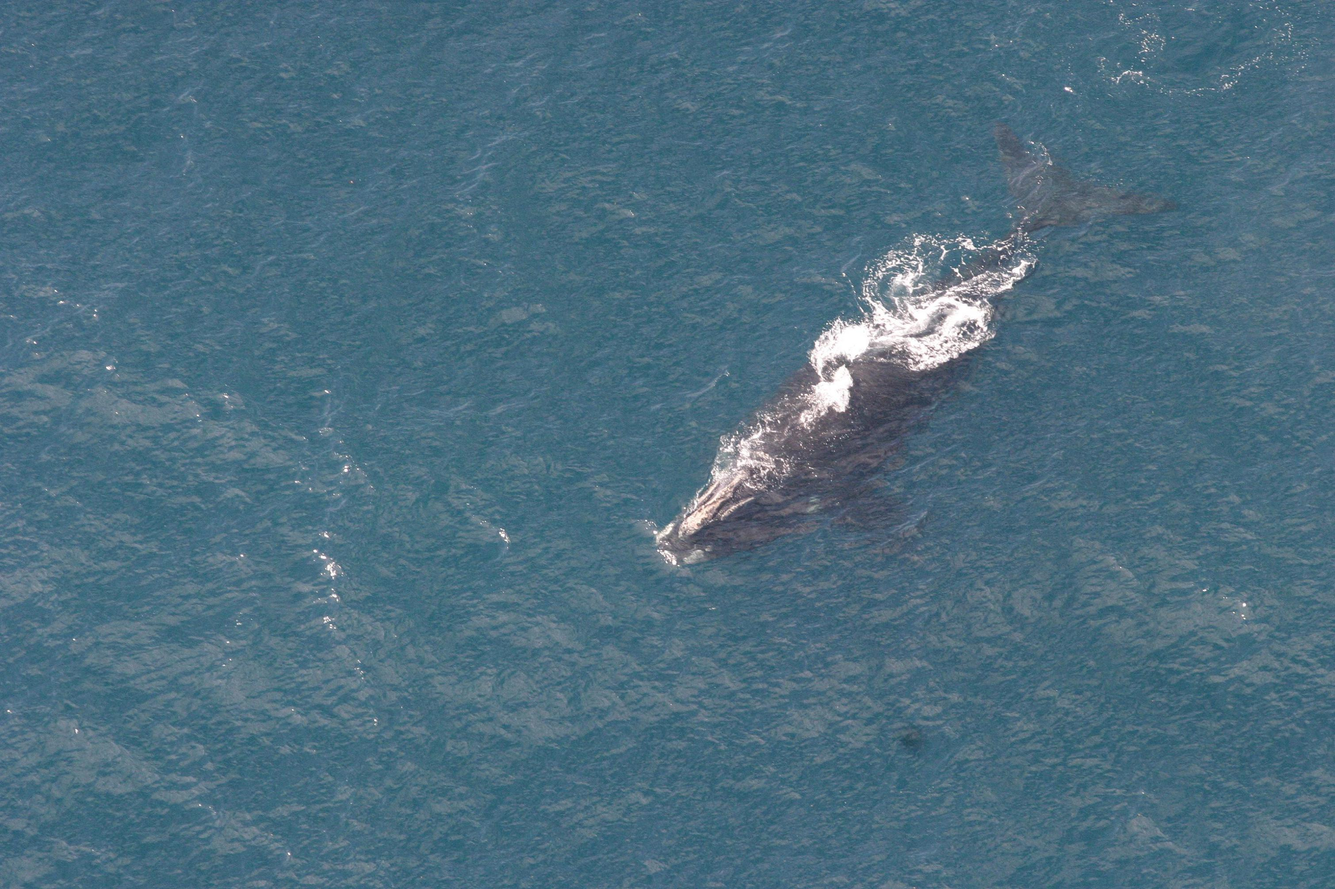whale: (648, 96, 1193, 585)
